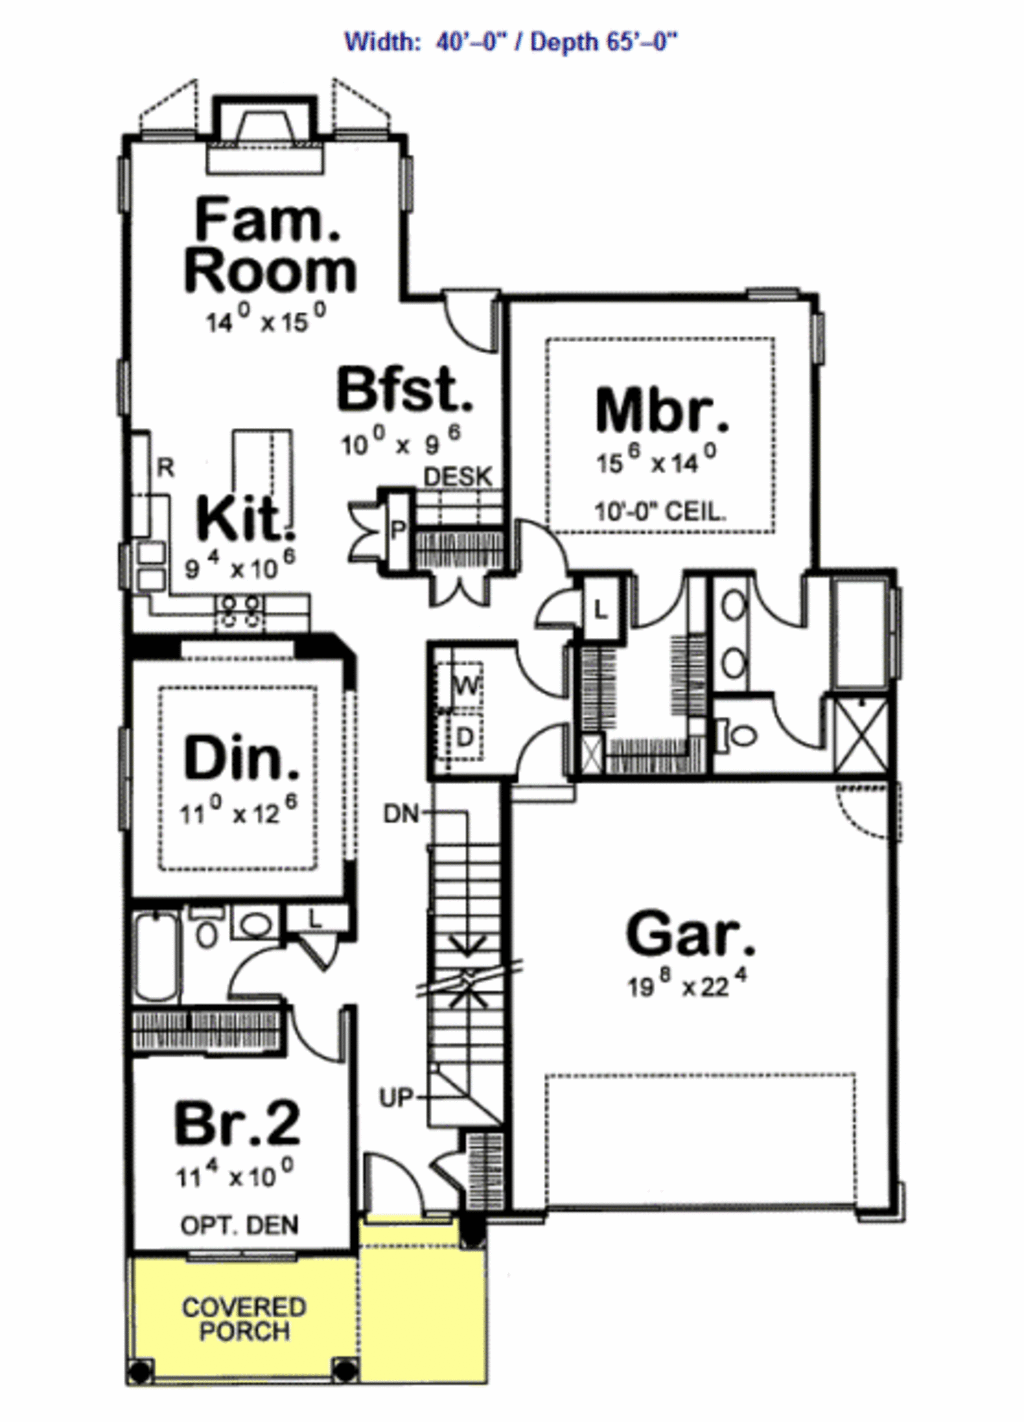door: (354, 1138, 438, 1225), (505, 723, 591, 802), (436, 285, 505, 360), (839, 779, 915, 843), (506, 634, 576, 703), (282, 1002, 351, 1070), (220, 944, 282, 1007), (751, 572, 815, 632), (523, 570, 583, 634), (768, 696, 839, 749), (511, 507, 568, 572), (625, 569, 682, 634), (345, 487, 385, 576), (418, 562, 492, 607), (427, 1145, 482, 1200)
large_sink: (719, 707, 776, 770), (189, 901, 236, 953)
small_sink: (713, 581, 749, 688), (233, 891, 288, 947)
stairs: (413, 770, 538, 1147)
tub: (134, 904, 193, 1031)
twin_sink: (130, 528, 180, 602)
window: (188, 1232, 310, 1269), (110, 723, 142, 828), (876, 584, 908, 681), (107, 144, 139, 229), (727, 272, 807, 301), (804, 307, 835, 368), (395, 147, 418, 220), (117, 351, 131, 412)
